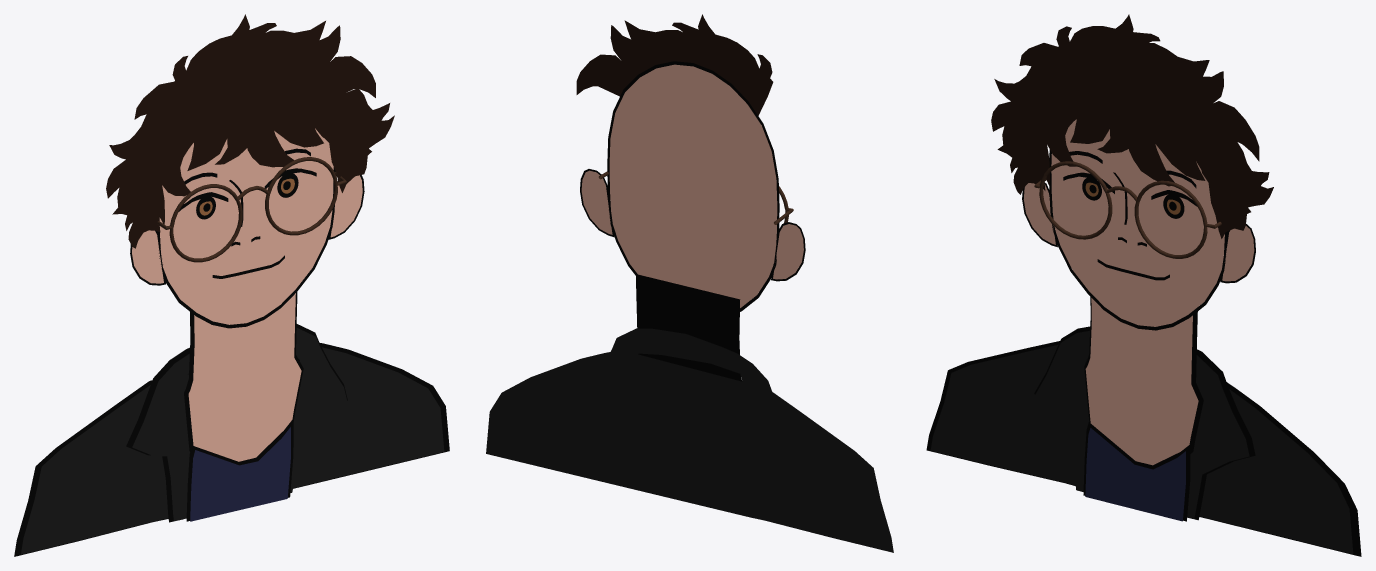
File: Portrait.glb
3 views of the same model, side by side, from view 1: azimuth 30°, elevation 25°; view 2: azimuth 150°, elevation 25°; view 3: azimuth 330°, elevation 25° (orthographic). The views are drawn at different scales.
Parts seen in each view (by area): view 1: Plane.024, Circle, Plane.020, Plane.022, Plane.016, Plane.018, Plane.017, Plane.026, Plane.019, Plane.015, Plane, Plane.025 (+5 smaller); view 2: Plane.024, Circle, Plane.021, Plane.018, Plane.017, Plane.022, Plane; view 3: Plane.024, Circle, Plane.020, Plane.022, Plane.016, Plane.018, Plane.017, Plane.026, Plane.019, Plane.015, Plane, Plane.025 (+5 smaller).
Boxes of the visible parts, box(x1,y1,x2,y2) form: Plane.024: box(21, 347, 444, 554); Circle: box(157, 128, 335, 328); Plane.020: box(188, 293, 301, 461); Plane.022: box(132, 328, 347, 521); Plane.016: box(106, 81, 194, 248); Plane.018: box(248, 21, 375, 116); Plane.017: box(171, 14, 276, 136); Plane.026: box(190, 427, 290, 521); Plane.019: box(320, 88, 394, 192); Plane.015: box(247, 99, 325, 167); Plane: box(130, 175, 364, 285); Plane.025: box(14, 343, 449, 556); Plane.024: box(486, 350, 893, 552); Circle: box(607, 61, 779, 311); Plane.021: box(635, 274, 742, 381); Plane.018: box(576, 20, 691, 96); Plane.017: box(672, 14, 773, 115); Plane.022: box(610, 328, 771, 391); Plane: box(580, 169, 805, 281); Plane.024: box(930, 345, 1353, 554); Circle: box(1049, 119, 1227, 330); Plane.020: box(1085, 298, 1198, 465); Plane.022: box(1034, 331, 1249, 518); Plane.016: box(991, 43, 1078, 194); Plane.018: box(1134, 43, 1259, 161); Plane.017: box(1055, 14, 1160, 121); Plane.026: box(1085, 428, 1185, 521); Plane.019: box(1199, 139, 1273, 238); Plane.015: box(1128, 117, 1206, 186); Plane: box(1022, 182, 1255, 283); Plane.025: box(926, 341, 1361, 556).
Bounding box in the file's own units: 4.17 × 4.59 × 0.3678.
